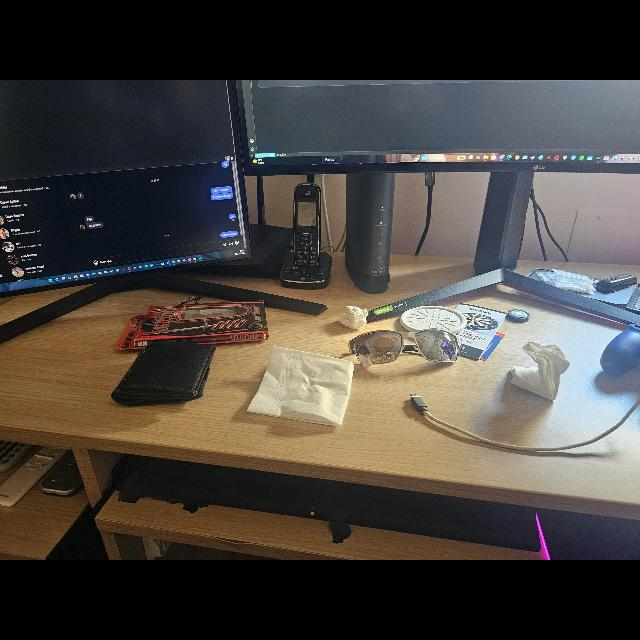Sunglasses: (349, 329, 459, 365)
Wallet: (111, 342, 215, 406)
